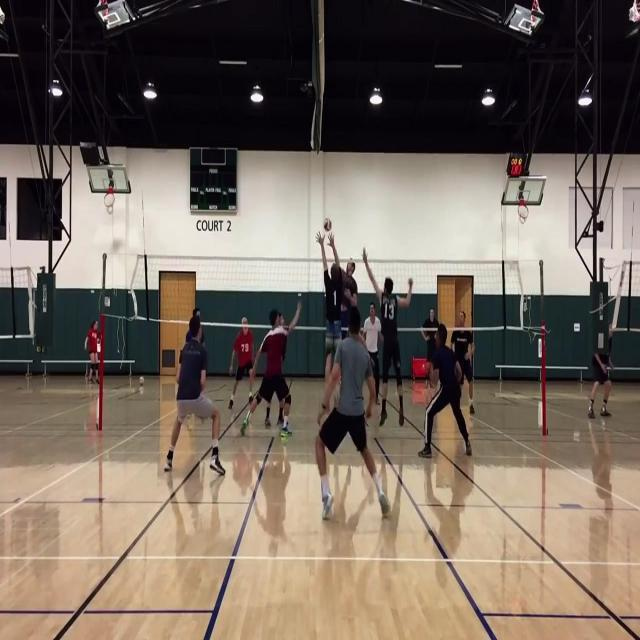volleyball: (323, 217, 333, 231)
